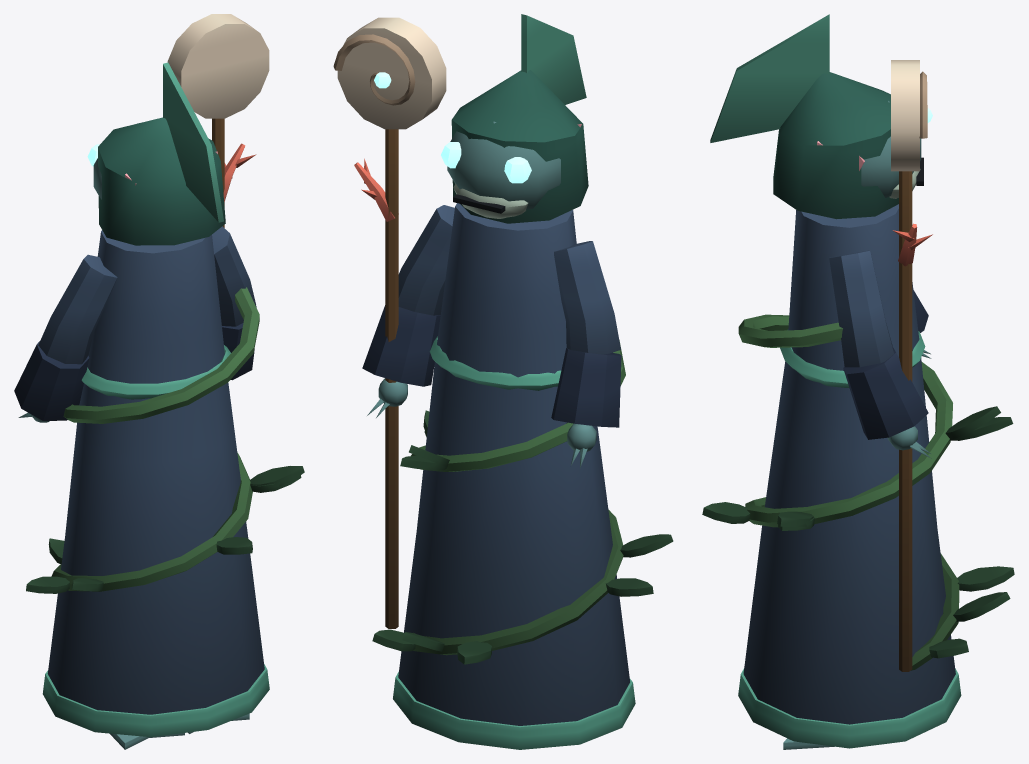
File: mob_drowned_acolyte.fbx
The picture shows the model from 3 angles, left to right: view 1: azimuth 30°, elevation 25°; view 2: azimuth 150°, elevation 25°; view 3: azimuth 270°, elevation 25°; orthographic projection. The views are drawn at different scales.
Visible parts, largest first — view 1: Body, Head, ForearmR, ArmL, ForearmL, ArmR; view 2: Body, ForearmR, Head, ForearmL, ArmL, ArmR, Head_Glow_Aqua; view 3: Body, Head, ForearmR, ArmR.
Boxes of the visible parts, <box> form: Body: <box>26,230,304,736</box>; Head: <box>93,62,225,245</box>; ForearmR: <box>167,14,269,380</box>; ArmL: <box>38,254,117,364</box>; ForearmL: <box>14,341,89,422</box>; ArmR: <box>212,226,255,326</box>; Body: <box>372,203,673,749</box>; ForearmR: <box>333,17,446,628</box>; Head: <box>447,14,588,223</box>; ForearmL: <box>551,348,621,467</box>; ArmL: <box>554,241,620,354</box>; ArmR: <box>398,205,454,315</box>; Head_Glow_Aqua: <box>441,142,531,183</box>; Body: <box>702,204,1014,748</box>; Head: <box>710,14,923,219</box>; ForearmR: <box>843,60,932,671</box>; ArmR: <box>829,250,894,367</box>.
Bounding box in the file's own units: 247 × 583 × 235.
Materials: 2 (1 with a texture image).
